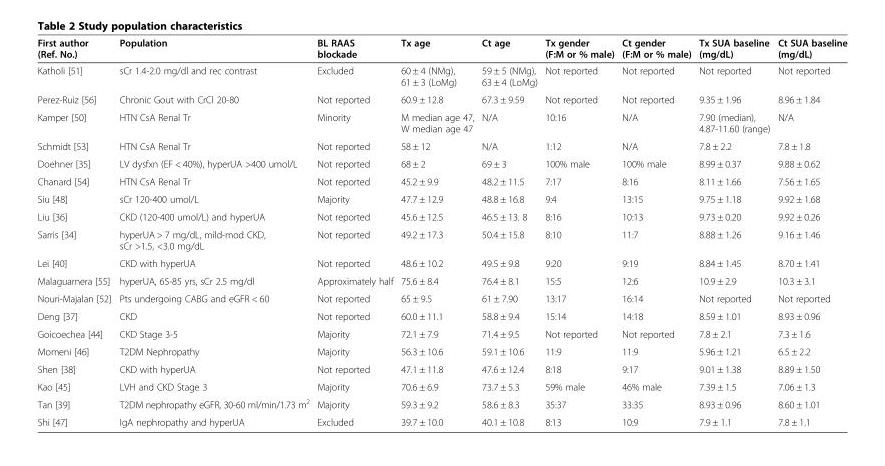table: (36, 36, 846, 427)
table column: (114, 36, 312, 427), (312, 36, 396, 427), (396, 36, 477, 427), (694, 36, 773, 427), (36, 36, 114, 427), (540, 36, 617, 427), (617, 36, 694, 427), (773, 36, 846, 427), (477, 36, 540, 427)
table column header: (36, 36, 846, 61)
table row: (36, 61, 846, 90), (36, 108, 846, 137), (36, 225, 846, 254), (36, 36, 846, 61), (36, 90, 846, 108), (36, 154, 846, 172), (36, 189, 846, 207), (36, 207, 846, 225), (36, 271, 846, 289), (36, 289, 846, 307), (36, 324, 846, 342), (36, 342, 846, 360), (36, 394, 846, 412), (36, 137, 846, 154), (36, 172, 846, 189), (36, 254, 846, 271), (36, 307, 846, 324), (36, 360, 846, 377), (36, 377, 846, 394), (36, 412, 846, 427)
